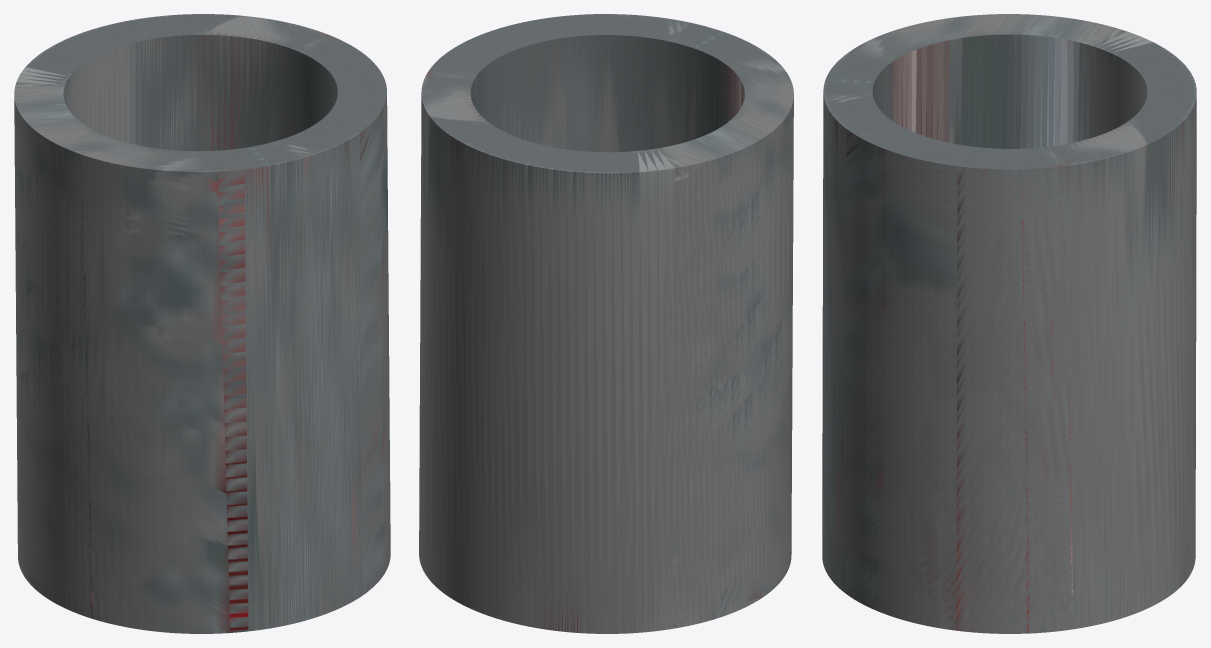
3 renders of one model, left to right at view 1: azimuth 30°, elevation 25°; view 2: azimuth 150°, elevation 25°; view 3: azimuth 270°, elevation 25°, orthographic.
Visible parts, largest first — view 1: Cylinder; view 2: Cylinder; view 3: Cylinder.
Part boxes in pixels (box(x1,y1,x2,y2)): Cylinder: box(14, 14, 390, 633); Cylinder: box(419, 14, 793, 633); Cylinder: box(822, 14, 1196, 633).
Size of the model in its own units: 0.0375 by 0.0511 by 0.0373.
17 materials, 17 textured.
